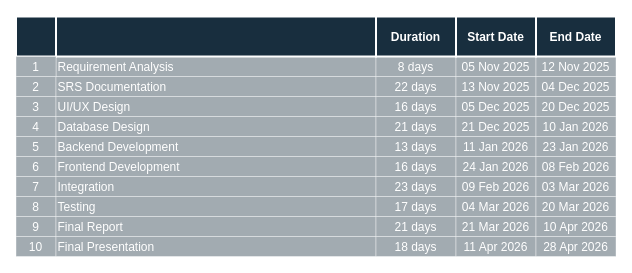
This 632x273 diagram has some shape labels left out. Each missing label, with the centre of its shape:
Sr.no: point 35,36
Task Name: point 215,36
